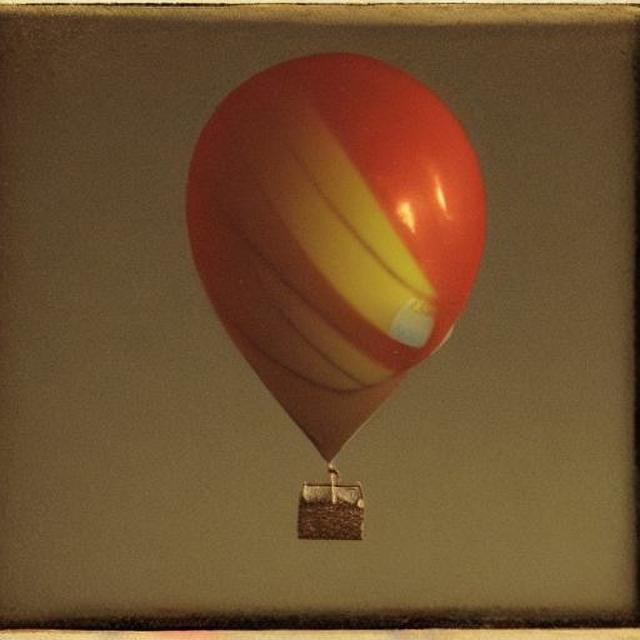balloon: (174, 44, 486, 550)
